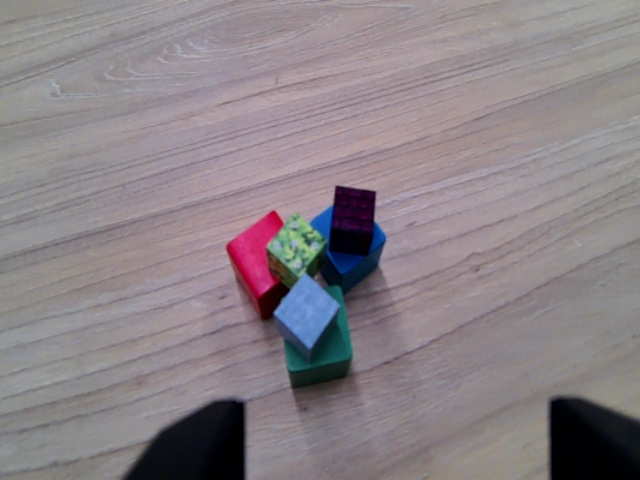brick: (334, 184, 374, 258)
grass: (268, 210, 324, 274)
stone: (270, 277, 339, 353)
